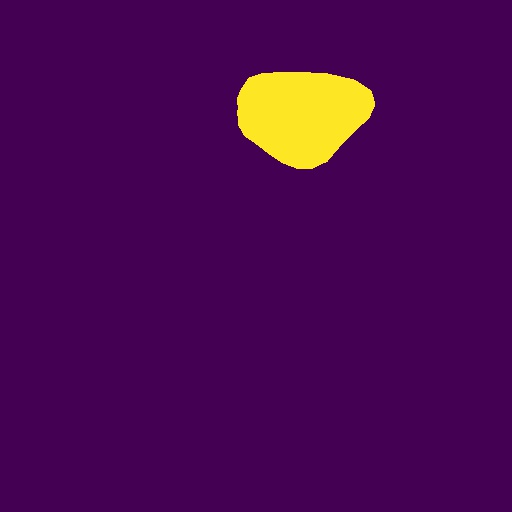Menigiomia_tumour: (237, 72, 375, 169)
